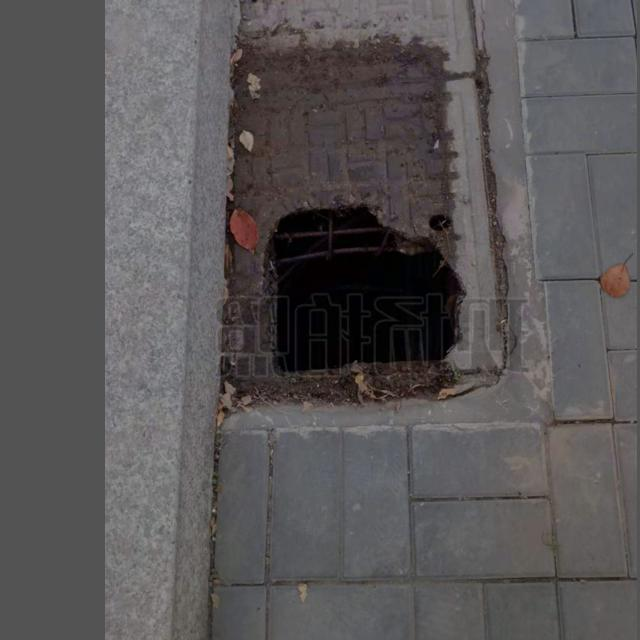broke: (189, 0, 497, 414)
